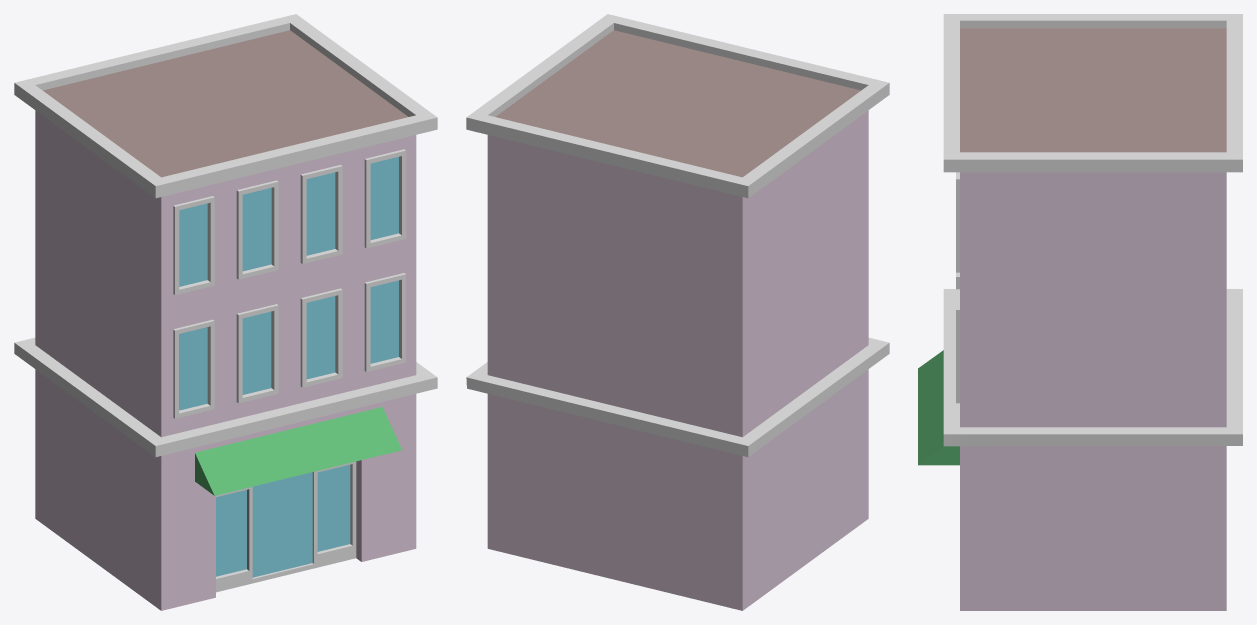
File: Building1.fbx
3 views of the same model, side by side, from view 1: azimuth 30°, elevation 25°; view 2: azimuth 150°, elevation 25°; view 3: azimuth 270°, elevation 25° (orthographic). The views are drawn at different scales.
Parts seen in each view (by area): view 1: pCube18; view 2: pCube18; view 3: pCube18.
Part boxes in pixels (box(x1,y1,x2,y2)): pCube18: box(14, 14, 437, 610); pCube18: box(466, 14, 889, 610); pCube18: box(918, 14, 1242, 610).
Size of the model in its own units: 619 by 910 by 584.
